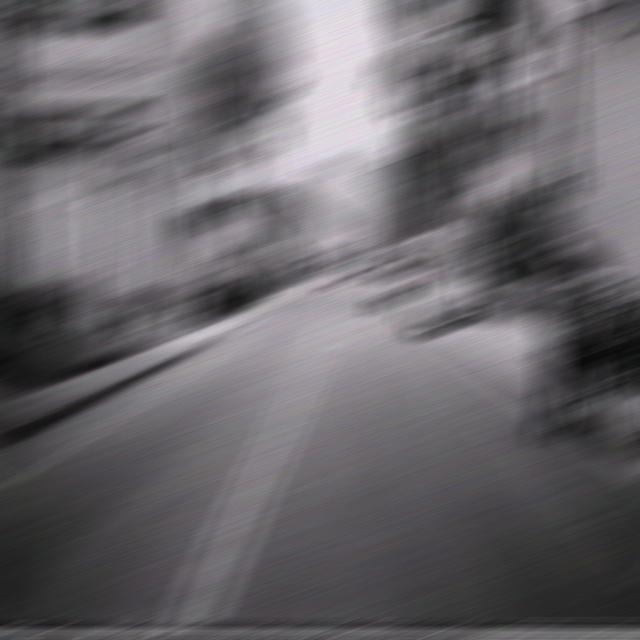pedestrianCrossing: (451, 190, 488, 226)
